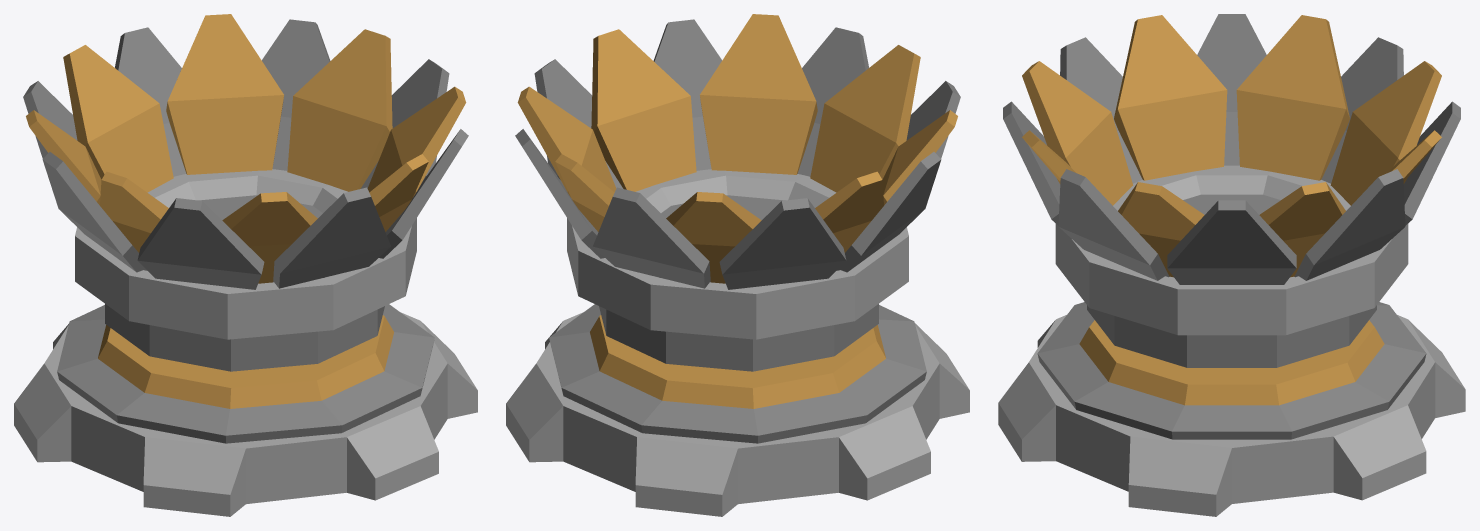
Rendered from teleporter.glb.
3 views of the same model, side by side, from view 1: azimuth 30°, elevation 25°; view 2: azimuth 150°, elevation 25°; view 3: azimuth 270°, elevation 25° (orthographic).
Parts seen in each view (by area): view 1: teleporter; view 2: teleporter; view 3: teleporter.
Boxes of the visible parts, x1,y1,x2,y2 form: teleporter: (14, 14, 477, 516); teleporter: (506, 14, 969, 516); teleporter: (998, 14, 1465, 516).
Bounding box in the file's own units: 1.21 × 0.9045 × 1.21.
